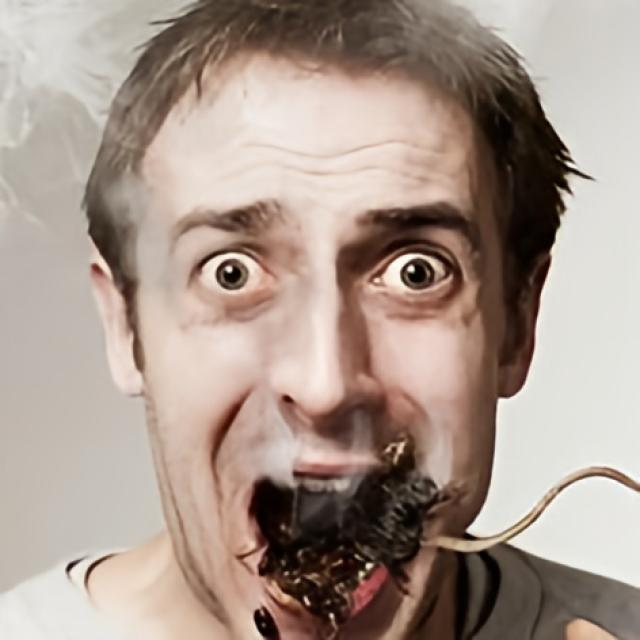Fear: (138, 52, 498, 640)
